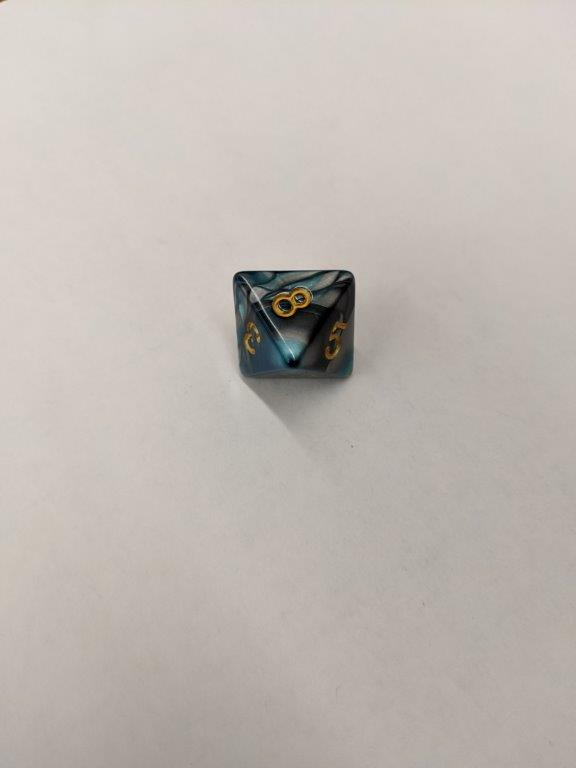d8-8: (233, 268, 356, 378)
